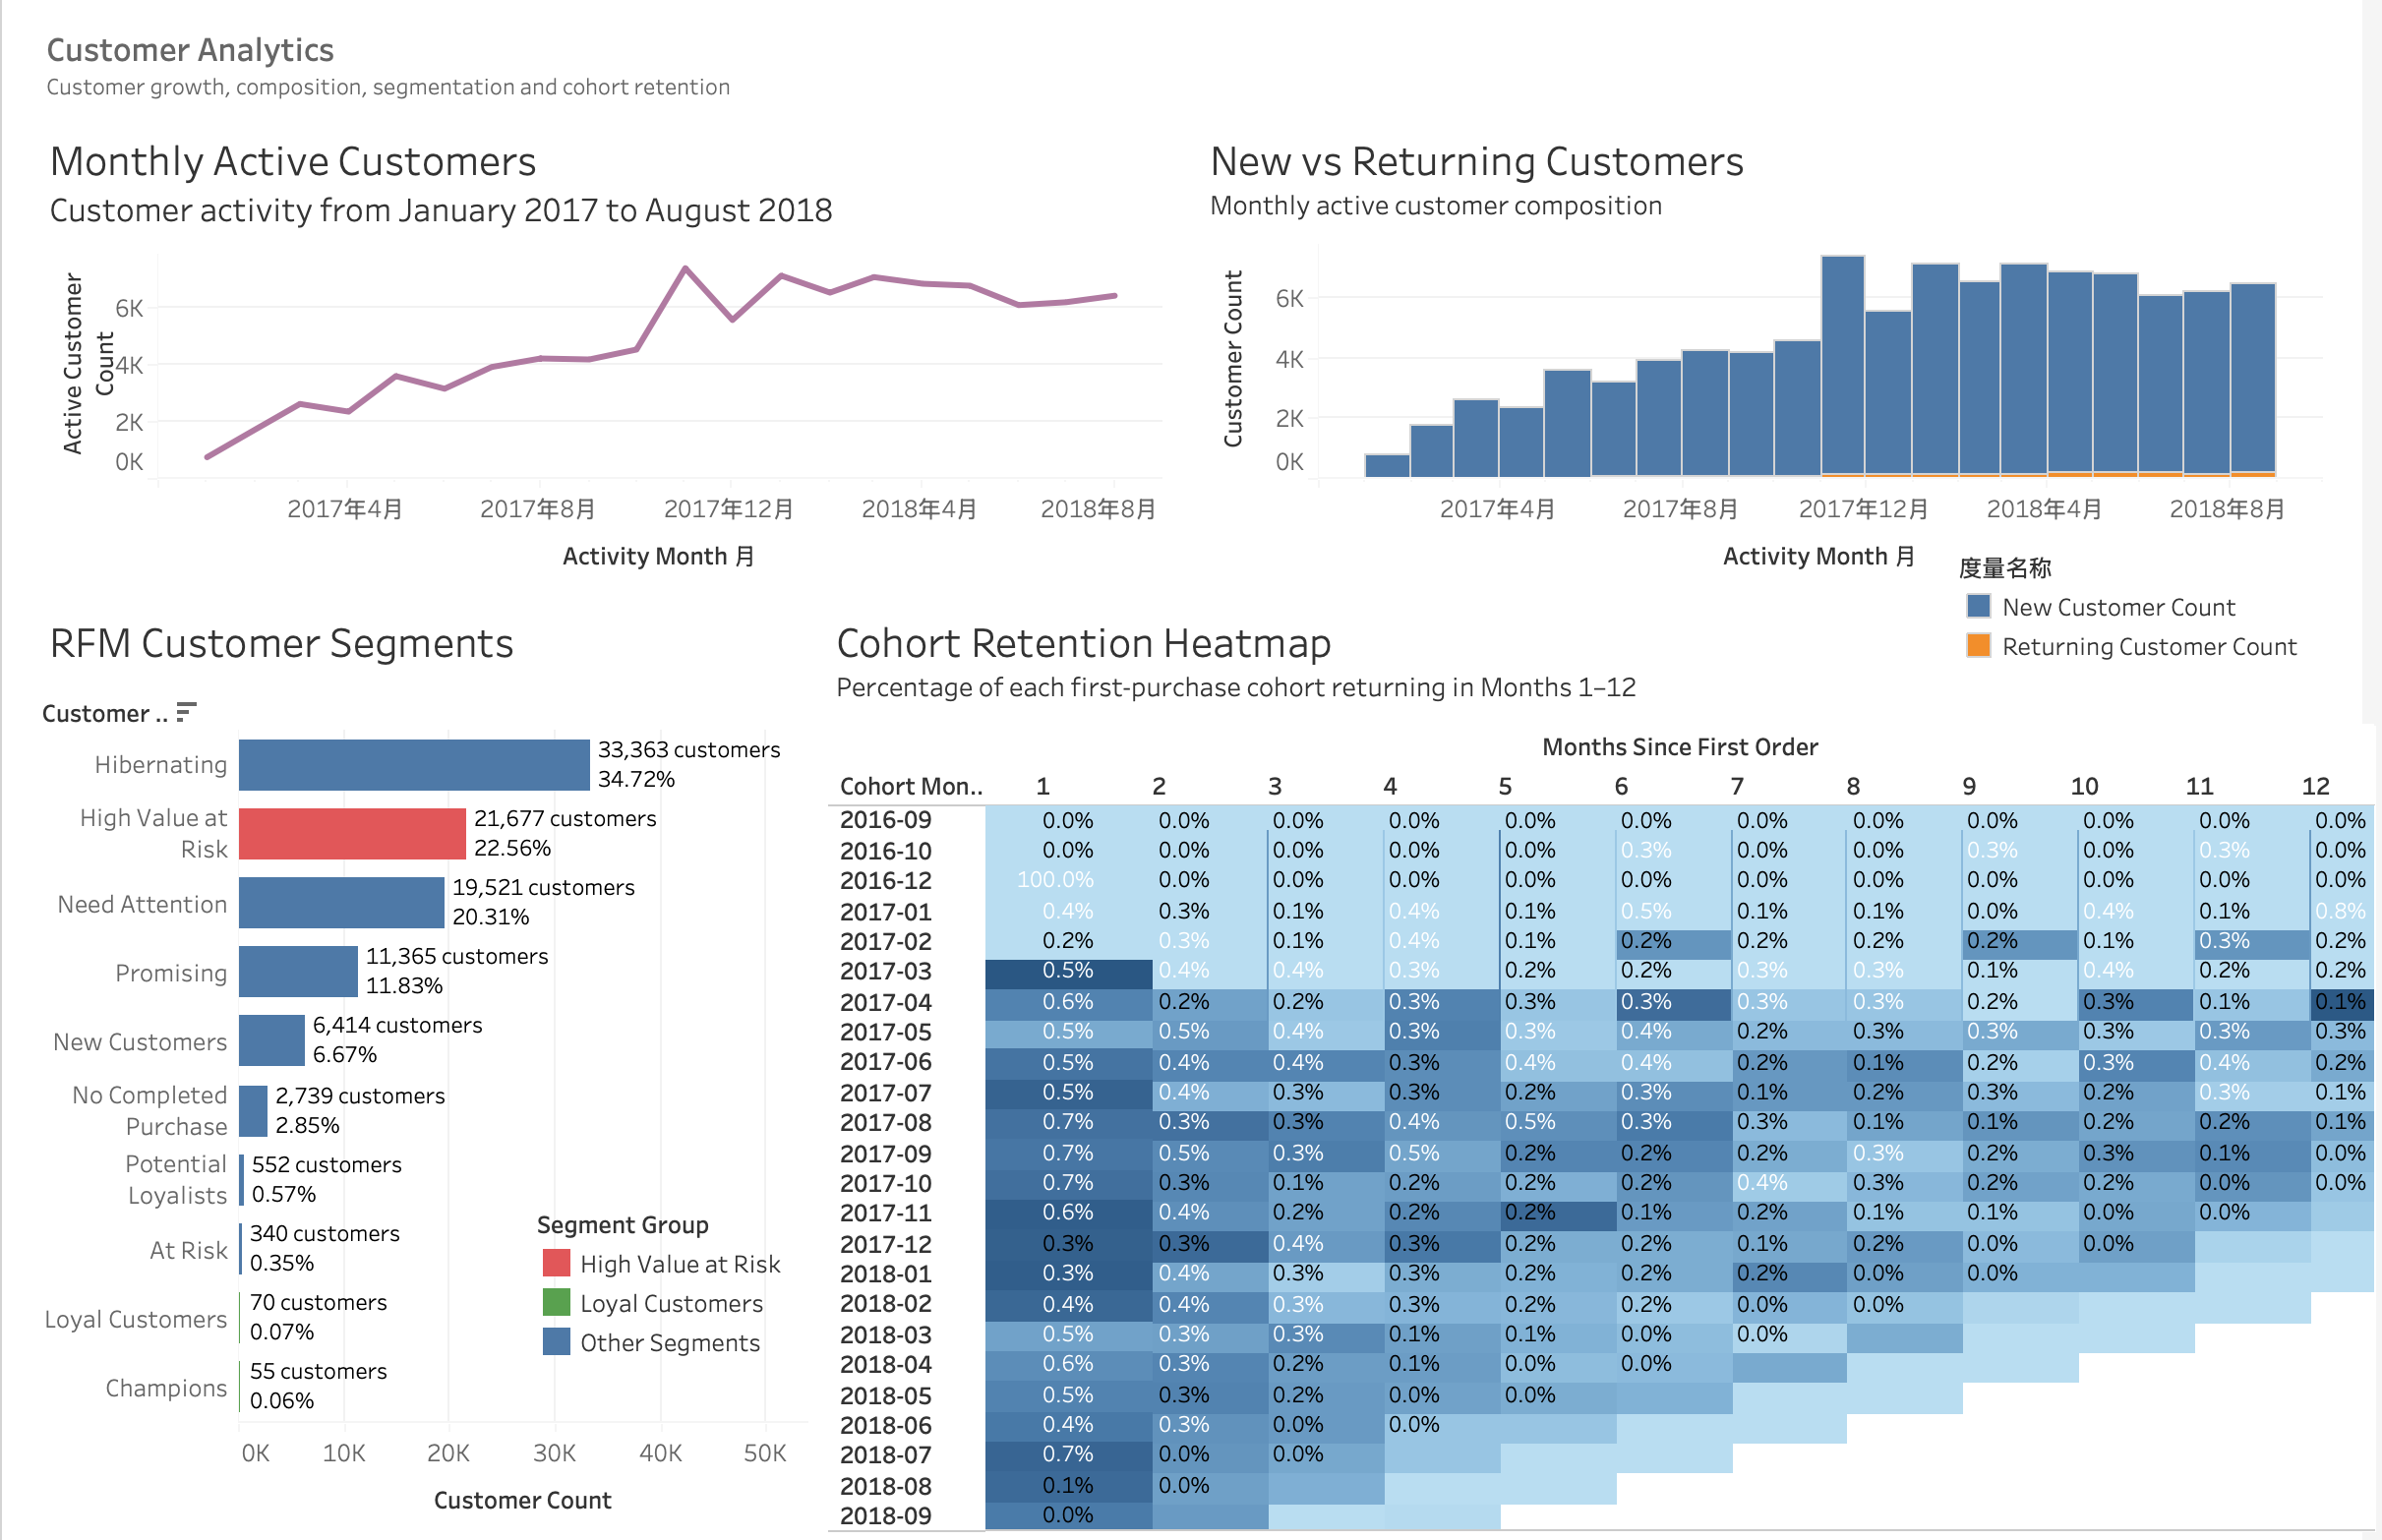

The dashboard page shown, as its layout file describes it:
{"tool":"tableau","page":{"name":"Customer Analytics","canvas":[1200,800],"ordinal":0},"visuals":[{"type":"text","box":[20,10,1160,50]},{"type":"worksheet","title":"Monthly Active Customers","mark":"Automatic","rows":["active_customer_count"],"cols":["activity_month"],"box":[20,65,570,235]},{"type":"worksheet","title":"New vs Returning Customers","mark":"Bar","cols":["activity_month"],"box":[610,65,570,235]},{"type":"legend","title":"New vs Returning Customers","param":"[federated.1ot4edr1qlmy0f18gxp2e0k518j1].[:Measure Names]","box":[995,282,177,58]},{"type":"worksheet","title":"RFM Customer Segments","mark":"Bar","rows":["customer_segment"],"cols":["customer_count"],"box":[20,310,390,470]},{"type":"legend","title":"RFM Customer Segments","param":"[federated.1p8u9ir1ufyj8514xdoqn0h09n0c].[none:Calculation_1102185685514305537:n","box":[272,616,131,99]}]}

Visuals, with their boxes on the page's 1200x800 design canvas (x1, y1, x2, y2). These are canvas units, not pixel positions in the 2382x1540 screenshot, which may show the page scaled, cropped or inside an application window:
text: select_region(20, 10, 1180, 60)
"Monthly Active Customers" worksheet: select_region(20, 65, 590, 300)
"New vs Returning Customers" worksheet (Bar marks): select_region(610, 65, 1180, 300)
"New vs Returning Customers" legend: select_region(995, 282, 1172, 340)
"RFM Customer Segments" worksheet (Bar marks): select_region(20, 310, 410, 780)
"RFM Customer Segments" legend: select_region(272, 616, 403, 715)
